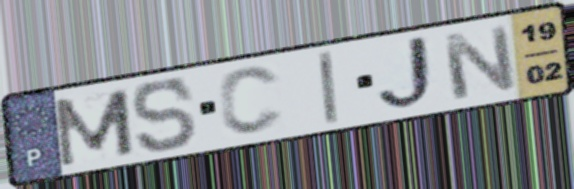C: (216, 64, 287, 138)
I: (314, 47, 342, 128)
J: (375, 32, 444, 115)
M: (47, 86, 138, 169)
N: (438, 22, 521, 103)
S: (129, 76, 201, 155)
